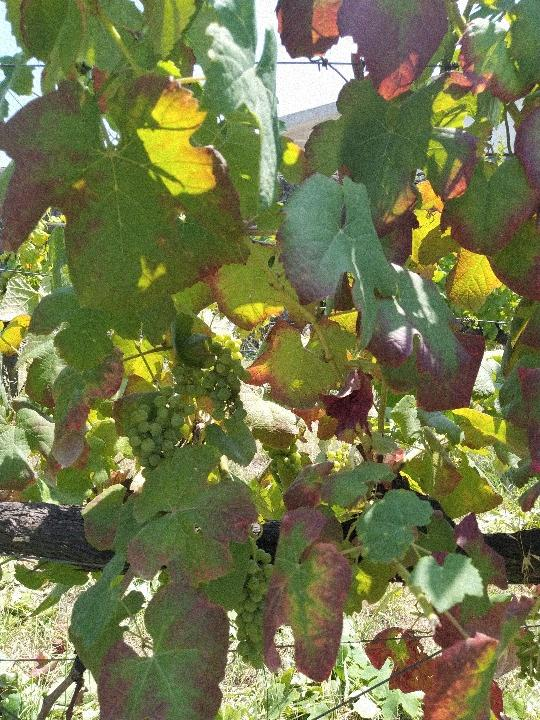grape: (170, 332, 253, 423), (126, 384, 196, 481), (232, 541, 277, 671)
